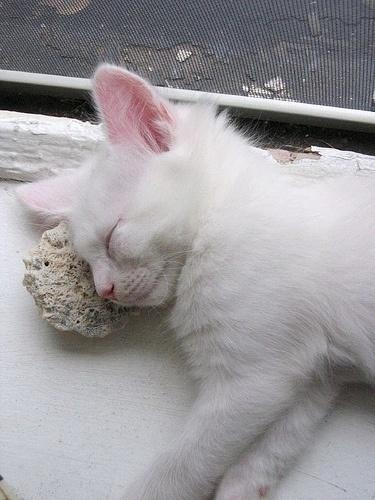cat: (17, 62, 375, 500)
